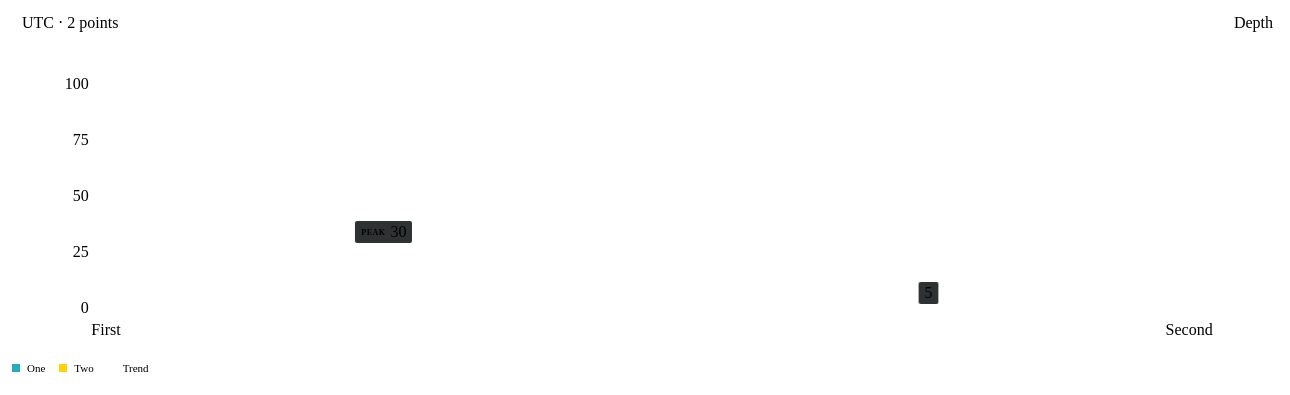
it: interactive chart controls and accessible data › labels the selected stacked bar total without adding the trendline
Later steps or results of the test are not shown.
Expected: the text named "Selected bar: 5" reads "5", [924,284,932,301]
Click the button "Two": (76, 368) [59,358,94,378]
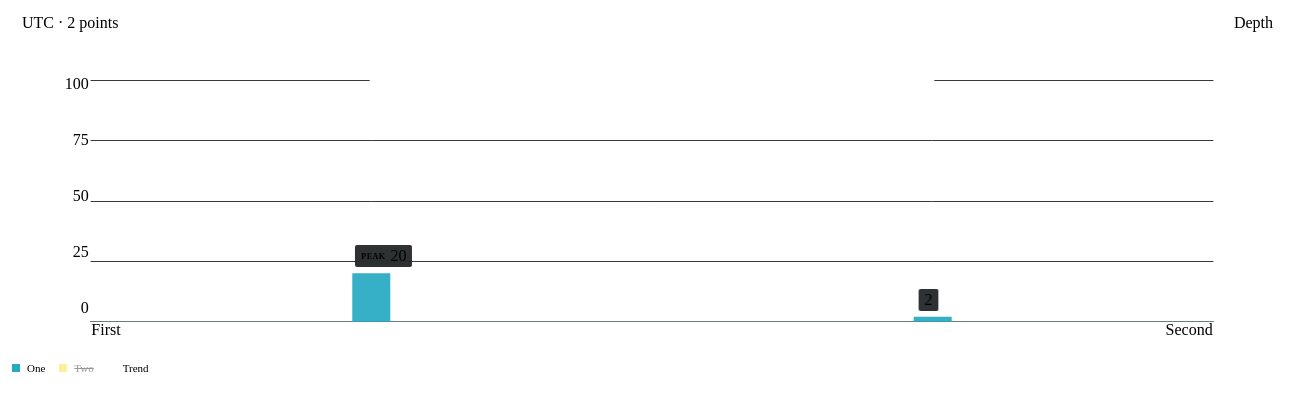
Now the text named "Selected bar: 2" reads "2", box [924,291,932,308]
